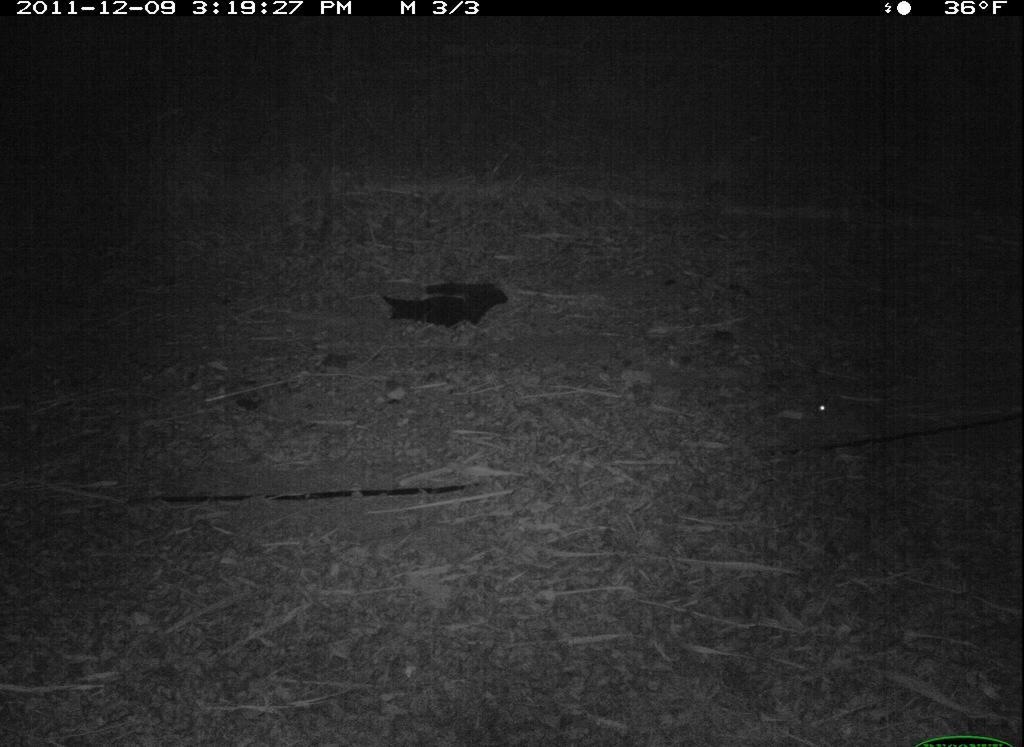rabbit: (806, 374, 903, 455)
